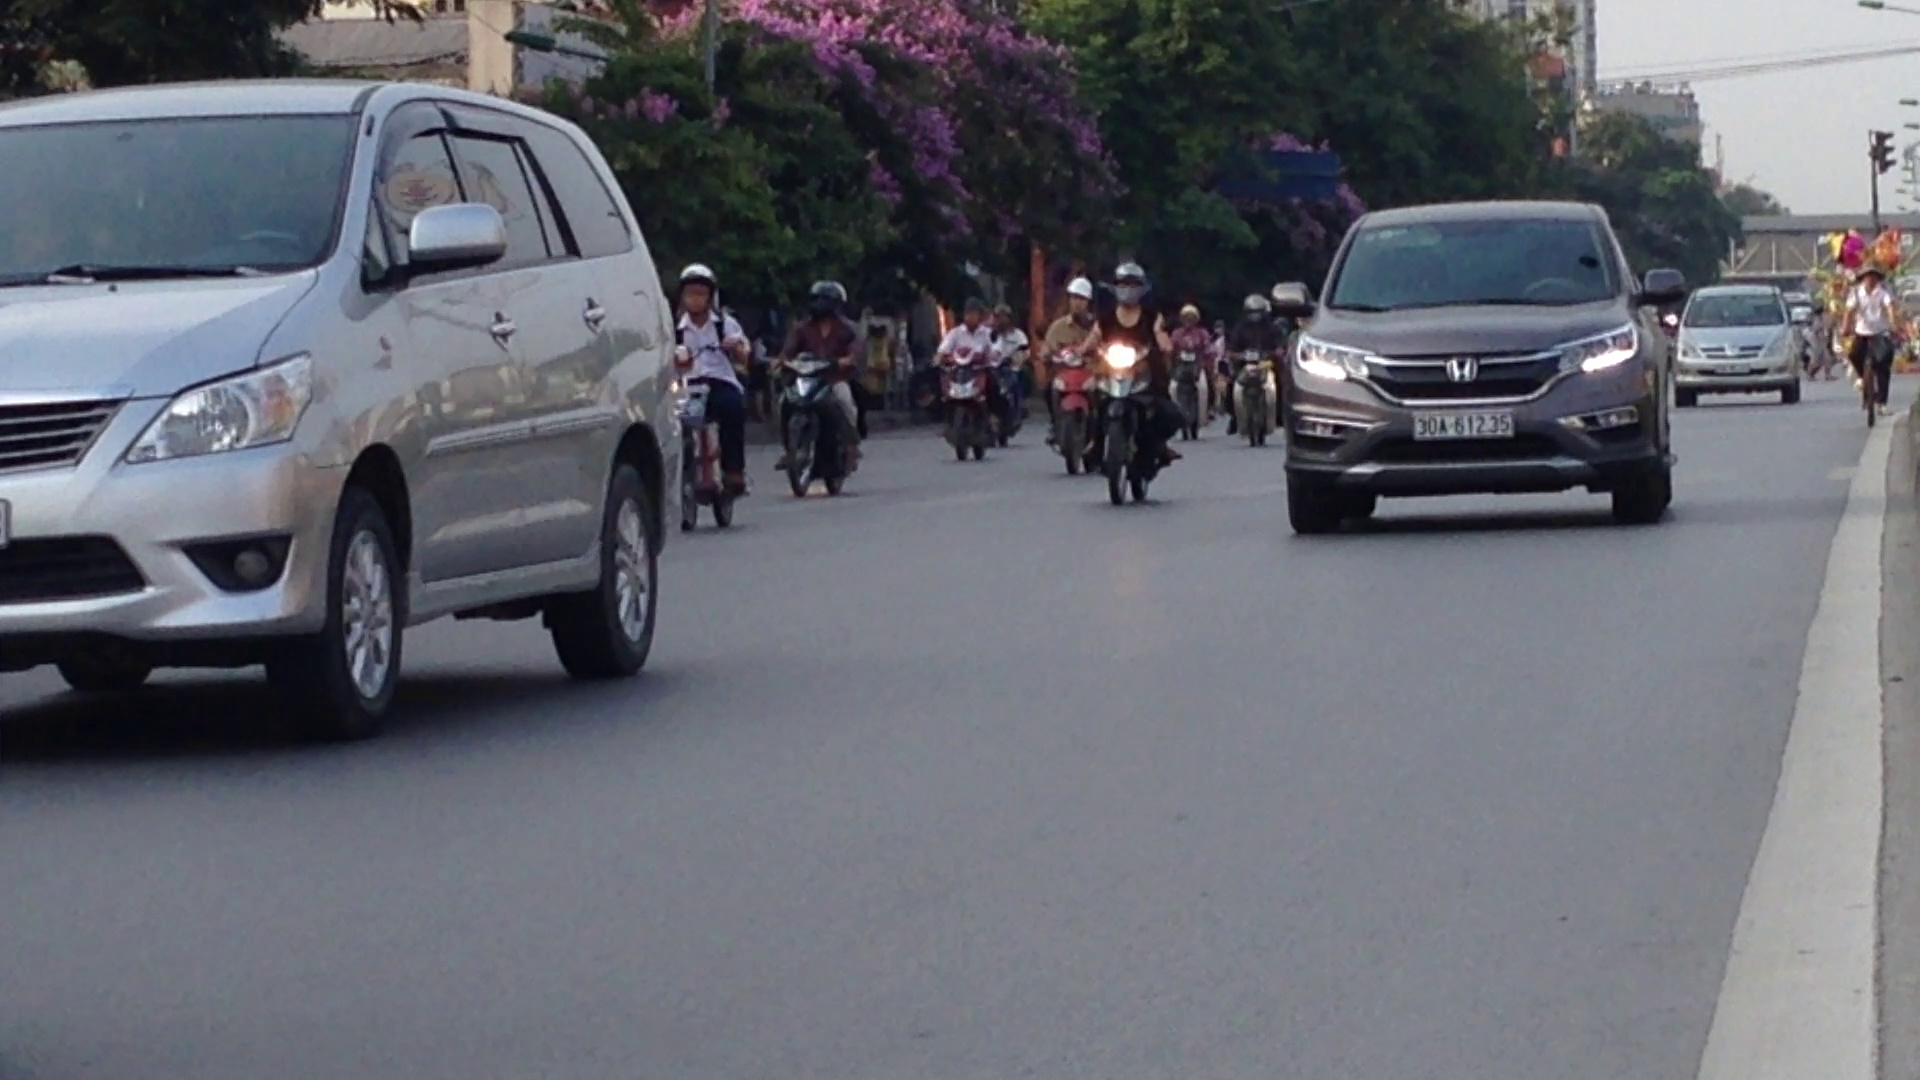vehicle-plate: (1409, 406, 1516, 443)
